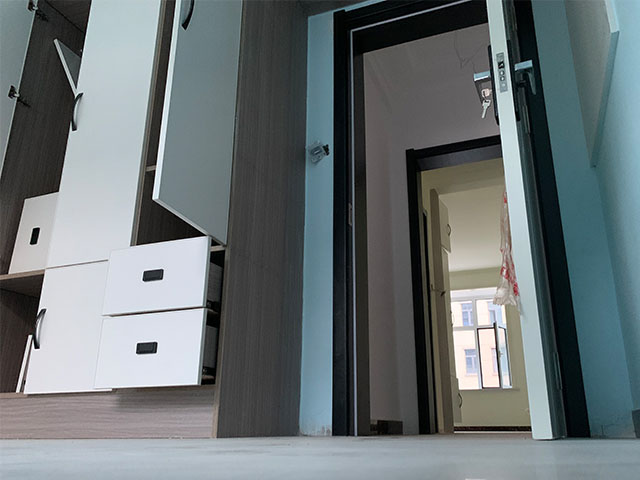cabinet: (1, 119, 281, 438)
